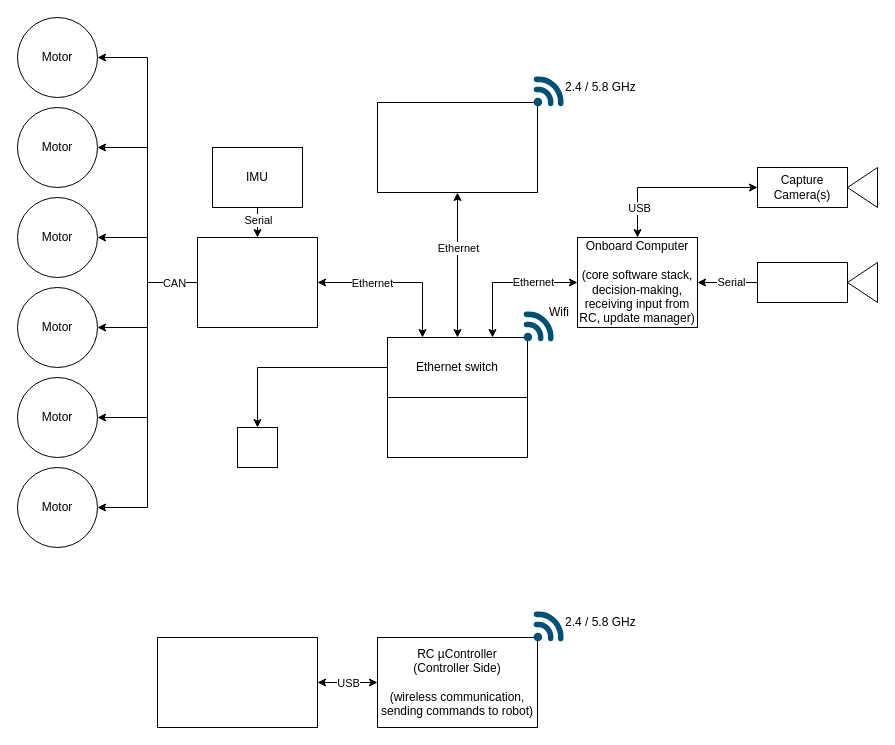
Some shapes in this 895 by 745 pixel diagram are drawn without their labels. The shapes that lost their labels are listed below. From the top down, each one's centre as x and y in pixels, then its label:
At (x=457, y=147): "RC µController (Robot Side) (wireless communication, sending video frames to RC)".
At (x=257, y=282): "Motor µController (driving, height control, balancing)".
At (x=802, y=282): "Perception Camera(s)".
At (x=257, y=447): "ETH Jack".
At (x=457, y=427): "Local Network Router (incl. passthrough Wifi)".
At (x=237, y=682): "RC Computer (Linux, macOS, UI to interface with robot)".
